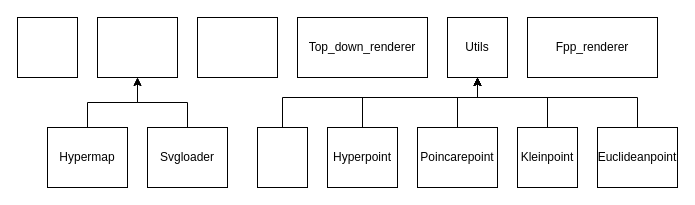
Some shapes in this 695 by 205 pixel diagram are drawn without their labels. Here are the shapes that lost their labels. From the top down, the centre of each, then its label:
At point 47,47: "Main".
At point 137,47: "Game".
At point 237,47: "Constants".
At point 282,157: "Point".
